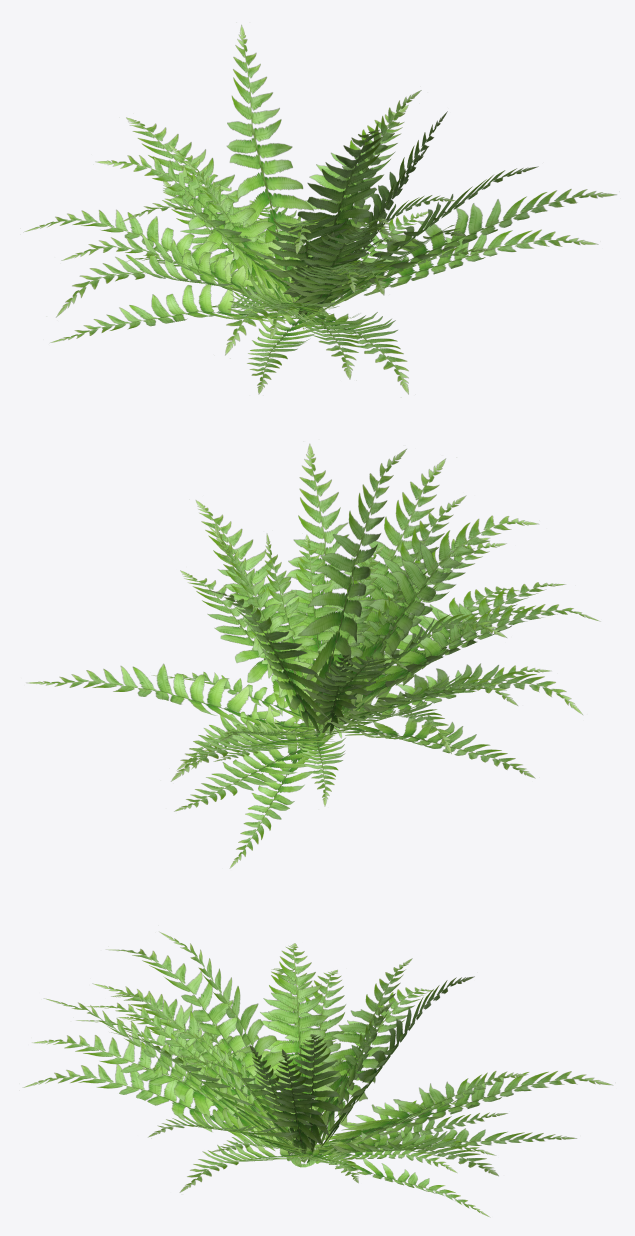
Rendered from Pakis_01_B_-_copy_001.glb.
3 views of the same model, one above another, from view 1: azimuth 30°, elevation 25°; view 2: azimuth 150°, elevation 25°; view 3: azimuth 270°, elevation 25° (orthographic). The views are drawn at different scales.
Visible parts, largest first — view 1: Pakis_01_B - copy.001; view 2: Pakis_01_B - copy.001; view 3: Pakis_01_B - copy.001.
Boxes of the visible parts, x1,y1,x2,y2 form: Pakis_01_B - copy.001: (24,25,616,394); Pakis_01_B - copy.001: (26,443,600,868); Pakis_01_B - copy.001: (23,931,612,1216).
Bounding box in the file's own units: 1.94 × 1.17 × 2.15.
Materials: 1 (1 with a texture image).
